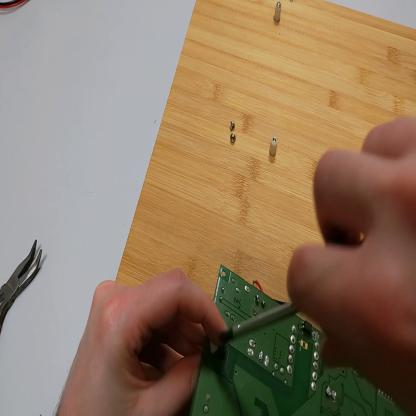hand: (291, 119, 416, 414), (57, 276, 230, 416)
low voltage board: (190, 267, 415, 414)
pliers: (1, 236, 46, 337)
screwdriver-: (219, 300, 300, 342)
working area: (114, 3, 416, 365)
